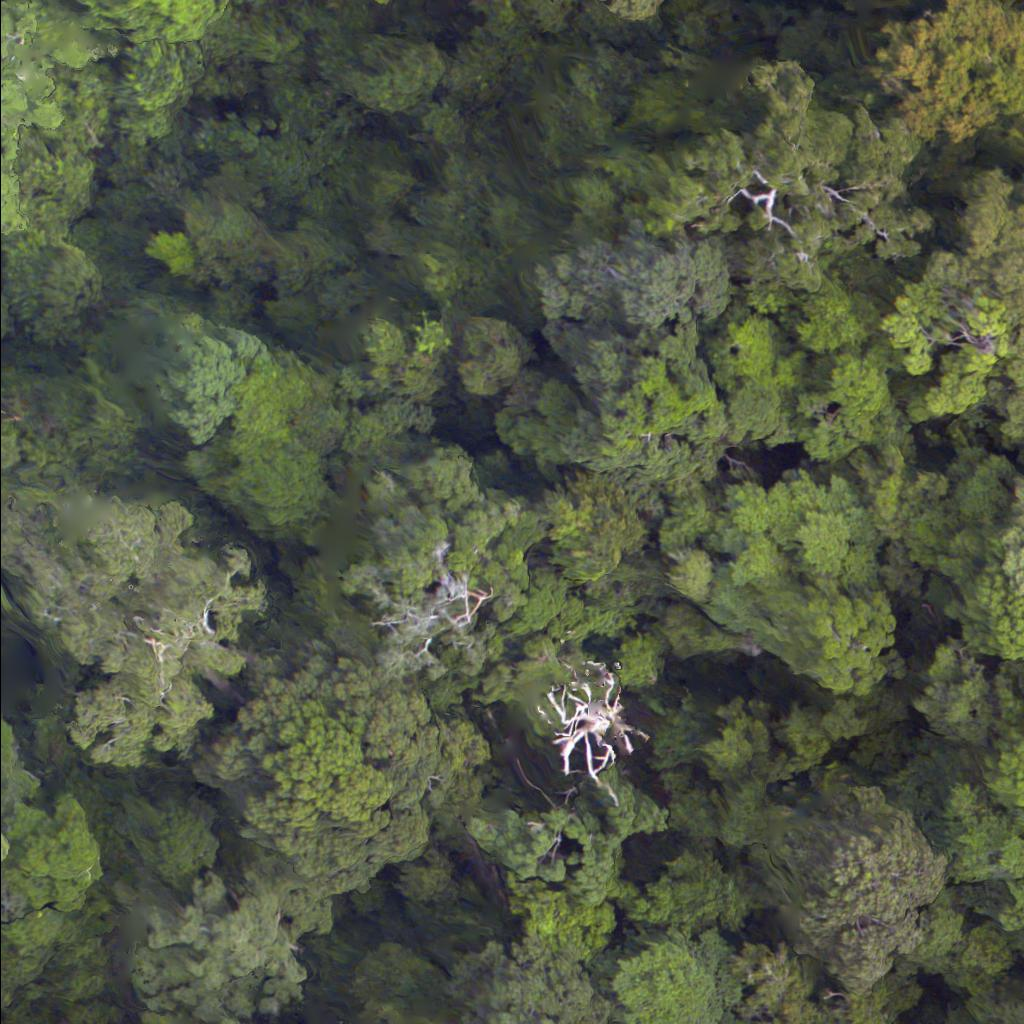crown: (0, 503, 275, 776), (324, 461, 559, 682), (228, 687, 487, 874), (754, 782, 952, 1013), (671, 467, 882, 682), (0, 0, 143, 241), (127, 875, 297, 1023), (866, 12, 1023, 151), (134, 326, 259, 446), (478, 947, 623, 1023), (620, 934, 742, 1023), (514, 0, 672, 11), (1017, 1018, 1023, 1023)
